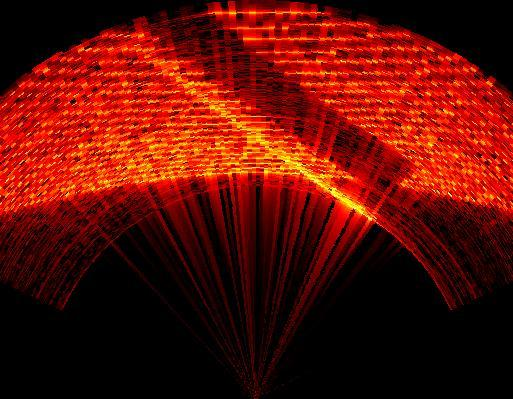pipe: (112, 15, 422, 219)
